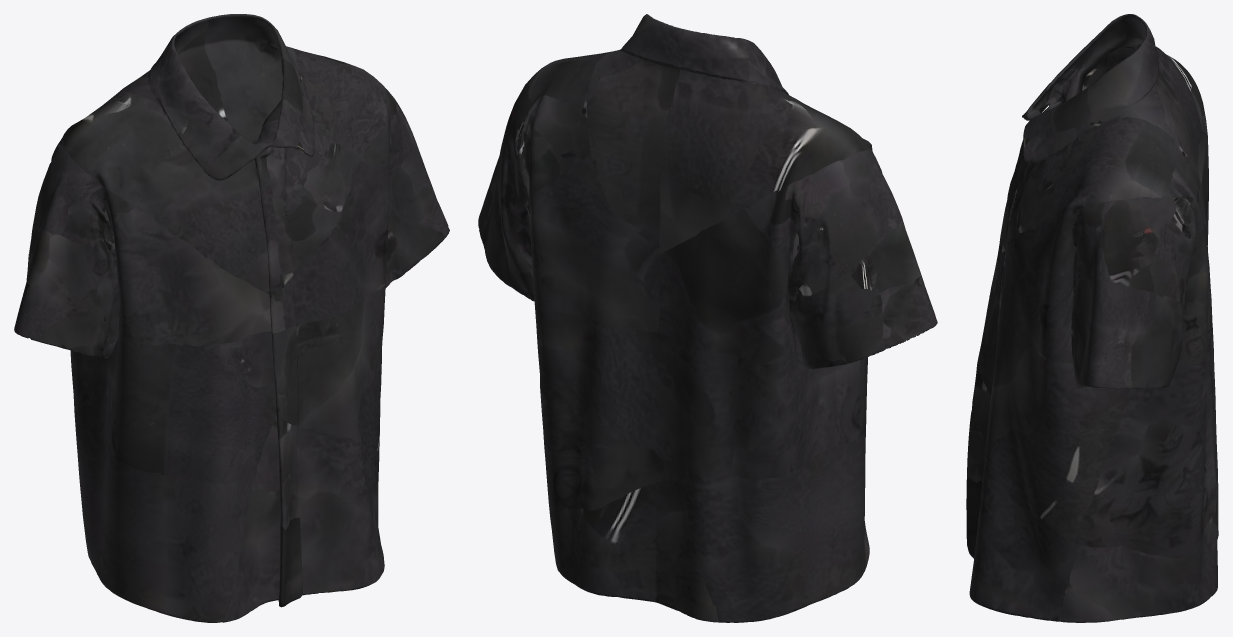
File: polo.glb
3 views of the same model, side by side, from view 1: azimuth 30°, elevation 25°; view 2: azimuth 150°, elevation 25°; view 3: azimuth 270°, elevation 25° (orthographic). The views are drawn at different scales.
Parts seen in each view (by area): view 1: garment; view 2: garment; view 3: garment.
Part boxes in pixels (x1,y1,x2,y2): garment: (14,14,449,622); garment: (478,14,937,622); garment: (966,14,1218,622).
Size of the model in its own units: 0.861 by 1 by 0.4294.
Materials: 1 (1 with a texture image).
